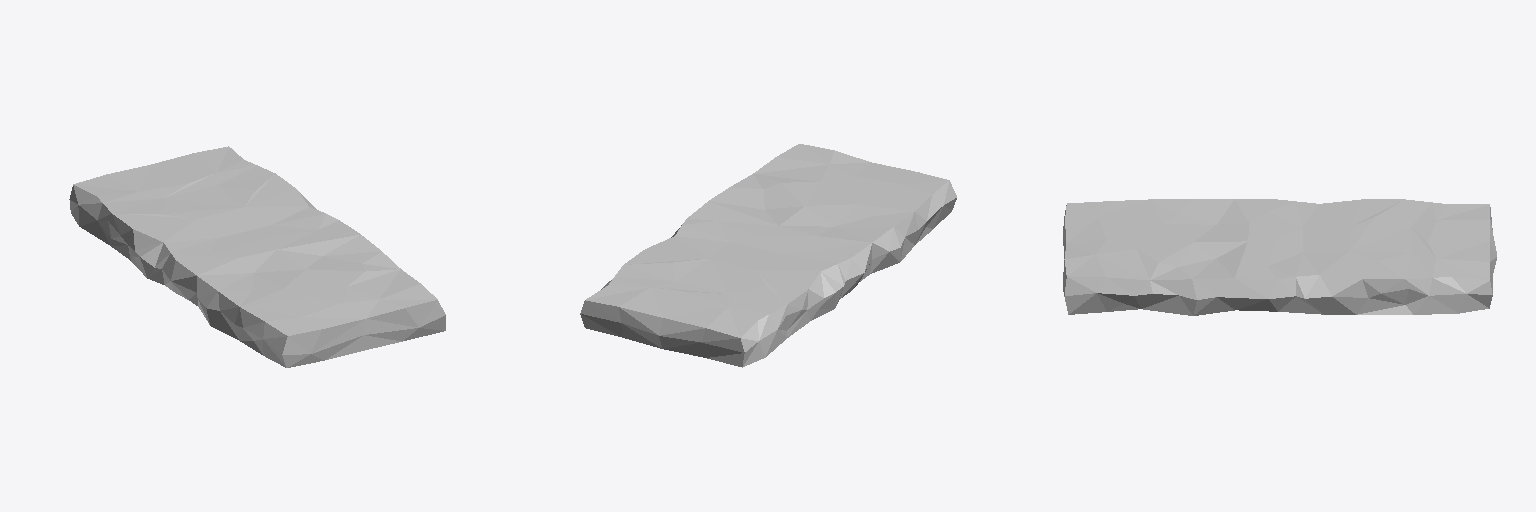
Rendered from Rampa.obj.
3 renders of one model, left to right at view 1: azimuth 30°, elevation 25°; view 2: azimuth 150°, elevation 25°; view 3: azimuth 270°, elevation 25°, orthographic.
Parts seen in each view (by area): view 1: Cube_Cube.002; view 2: Cube_Cube.002; view 3: Cube_Cube.002.
Part boxes in pixels (x1,y1,x2,y2): Cube_Cube.002: (69,146,445,367); Cube_Cube.002: (580,144,956,367); Cube_Cube.002: (1063,199,1496,315).
Size of the model in its own units: 4.48 by 0.8441 by 9.2.